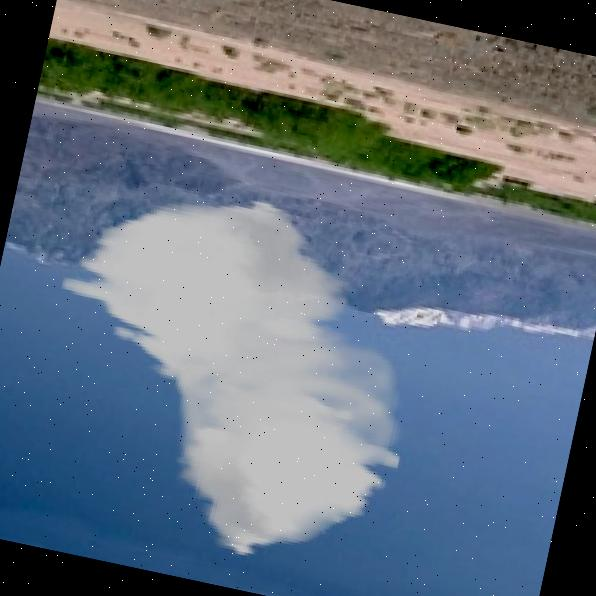smoke: (15, 163, 449, 586)
